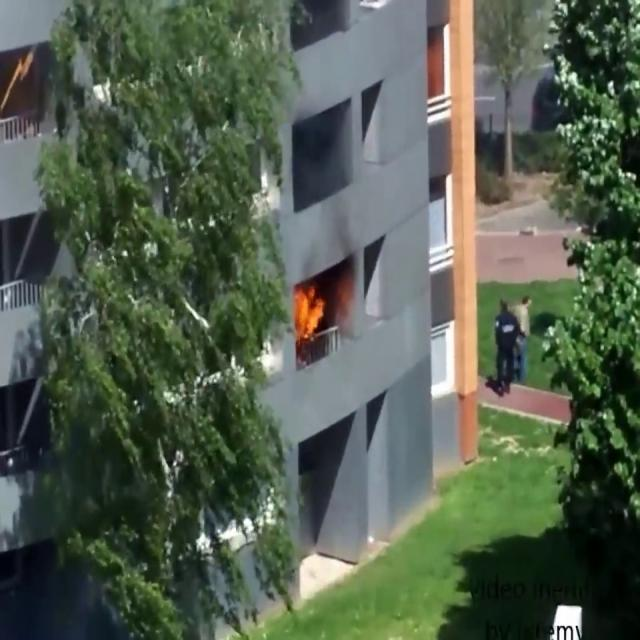Fire: (290, 268, 328, 352)
